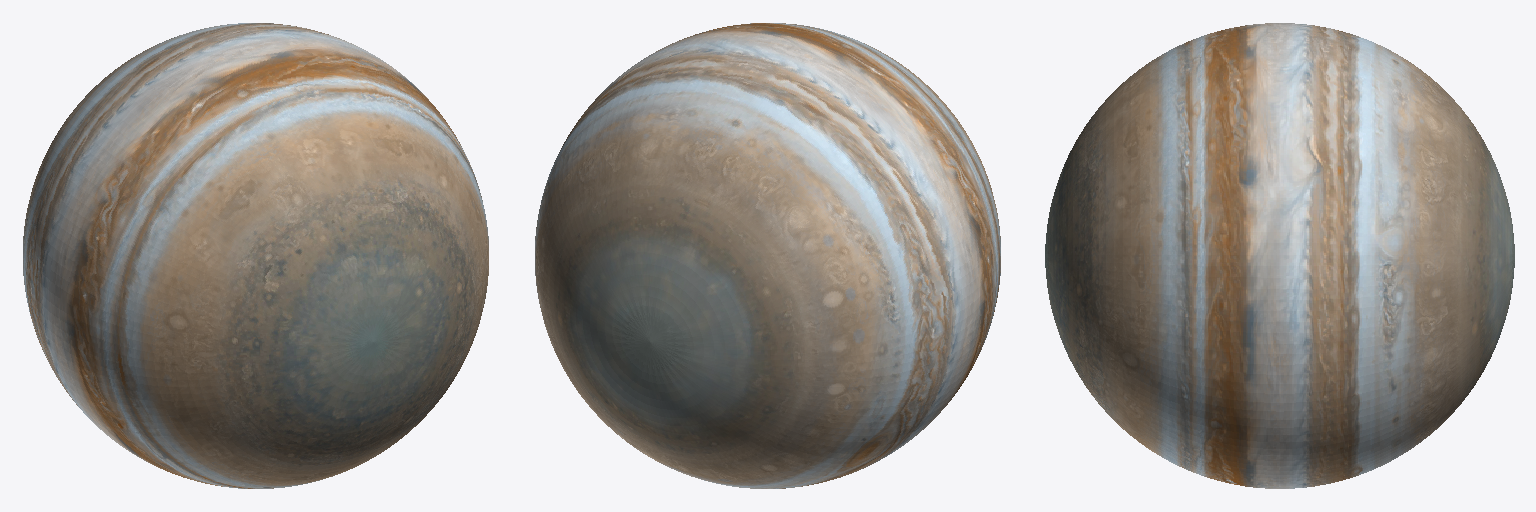
3 renders of one model, left to right at view 1: azimuth 30°, elevation 25°; view 2: azimuth 150°, elevation 25°; view 3: azimuth 270°, elevation 25°, orthographic.
Parts seen in each view (by area): view 1: Jupiter; view 2: Jupiter; view 3: Jupiter.
Part boxes in pixels (left/top/right/bottom): Jupiter: left=23, top=23, right=488, bottom=488; Jupiter: left=535, top=23, right=1000, bottom=488; Jupiter: left=1045, top=23, right=1514, bottom=488.
Size of the model in its own units: 965 by 965 by 975.
1 materials, 1 textured.